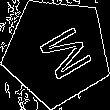M_SW: (24, 19, 89, 84)
